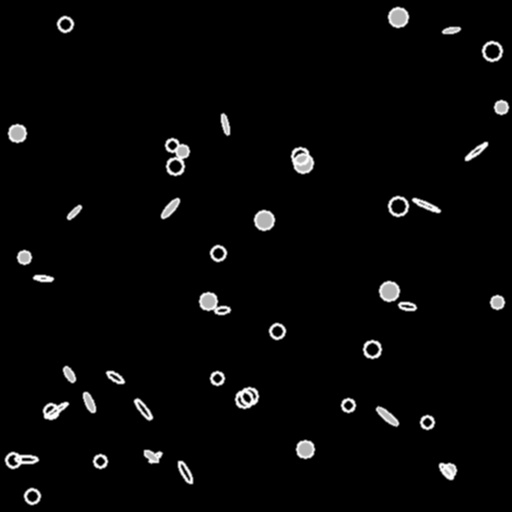pseudomonas: (374, 405, 400, 427), (159, 197, 181, 219), (133, 397, 153, 421), (464, 141, 488, 161), (176, 459, 194, 485), (412, 197, 440, 213), (44, 401, 68, 419), (105, 369, 125, 385), (82, 391, 96, 413), (438, 462, 454, 480), (62, 365, 76, 383), (143, 449, 159, 463), (220, 113, 230, 135), (148, 450, 162, 464), (67, 205, 81, 219), (14, 455, 38, 463), (399, 301, 415, 311), (33, 274, 53, 282), (214, 306, 230, 314), (443, 26, 459, 34)
synechocystis: (389, 8, 407, 26), (483, 42, 501, 60), (380, 282, 398, 300), (255, 211, 273, 229), (294, 154, 312, 172), (389, 197, 407, 215), (200, 293, 216, 309), (297, 441, 313, 457), (364, 341, 380, 357), (241, 388, 257, 404), (236, 391, 252, 407), (9, 125, 25, 141), (167, 158, 183, 174), (292, 148, 308, 164), (44, 404, 58, 418), (211, 246, 225, 260), (25, 489, 39, 503), (270, 324, 284, 338), (58, 17, 72, 31), (6, 453, 20, 467), (94, 455, 106, 467), (495, 101, 507, 113), (18, 251, 30, 263), (491, 296, 503, 308), (443, 464, 455, 476), (342, 399, 354, 411), (211, 372, 223, 384), (166, 139, 178, 151), (421, 416, 433, 428), (176, 145, 188, 157)
